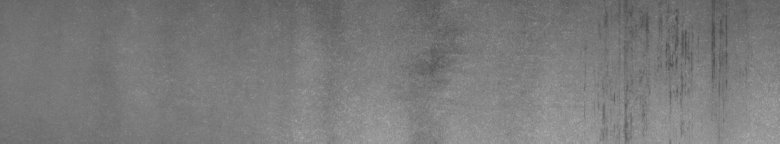ka: (598, 10, 727, 136)
